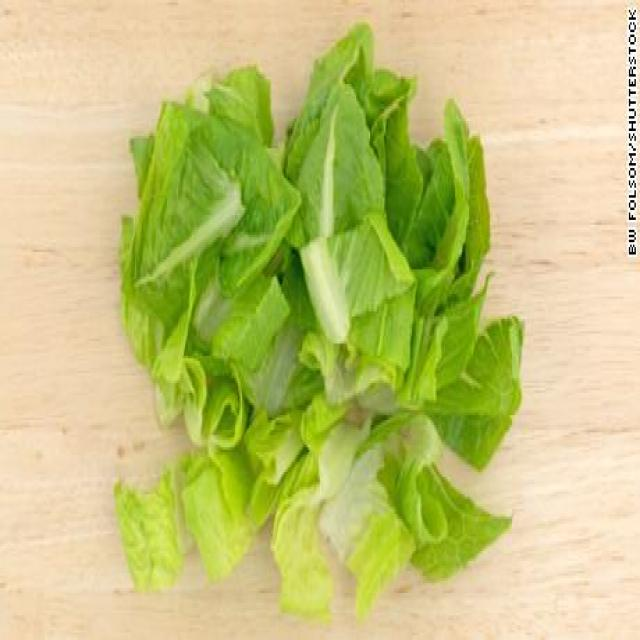lettuce: (124, 66, 501, 574)
